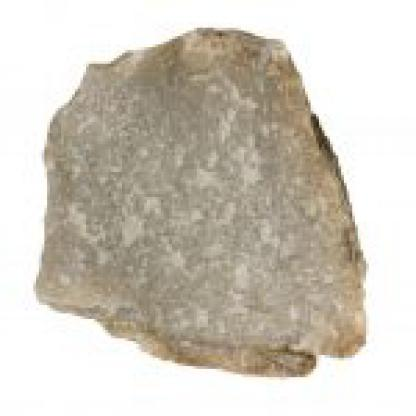Metamorphic_Quartize: (22, 20, 377, 374)
